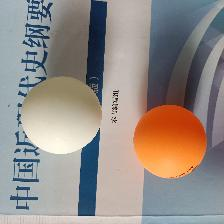WhiteBall: (19, 75, 102, 154)
YellowBall: (132, 104, 207, 180)
